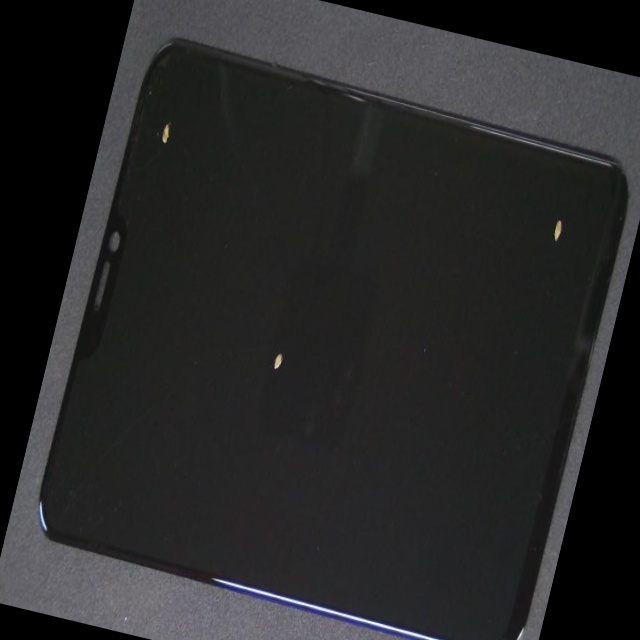stain: (137, 114, 422, 526), (340, 117, 640, 312), (126, 14, 209, 195)
